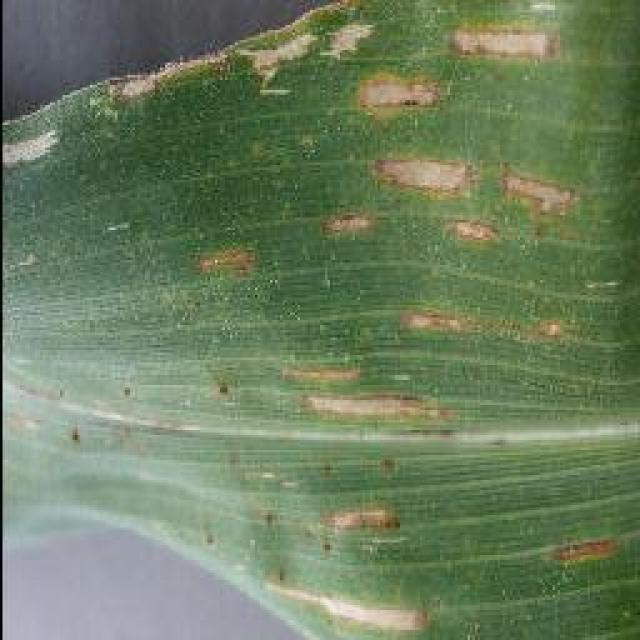Corn_Grey_Leaf_Spot: (205, 12, 640, 618)
